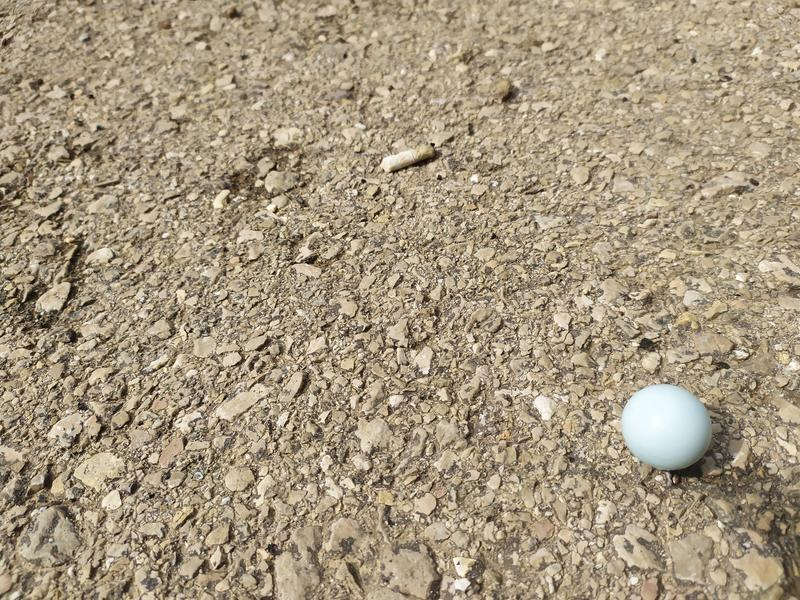Warning: (618, 382, 715, 474)
